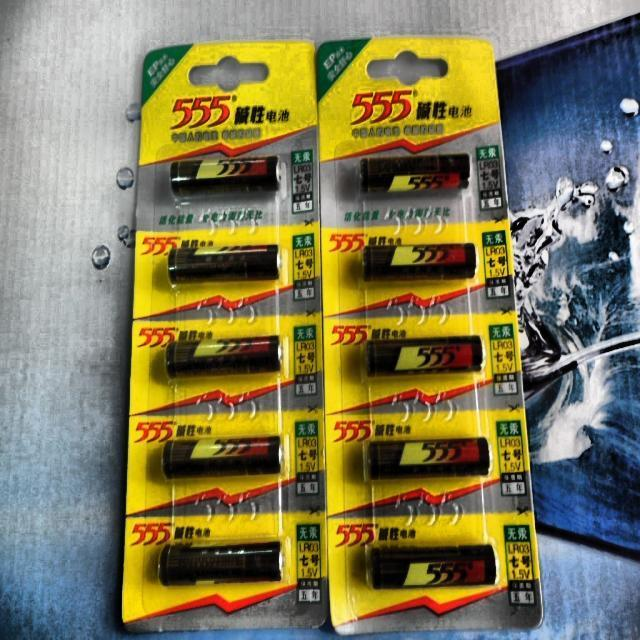battery: (371, 545, 496, 588), (160, 542, 282, 583), (162, 437, 280, 478), (369, 438, 489, 478), (166, 335, 279, 377), (368, 337, 482, 375), (360, 153, 470, 192), (364, 243, 476, 280), (169, 246, 279, 282), (171, 157, 278, 192)
